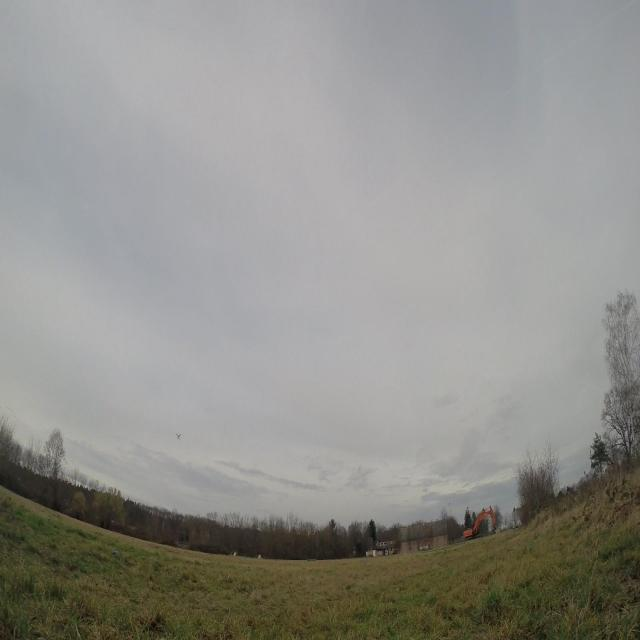drone: (173, 428, 186, 442)
